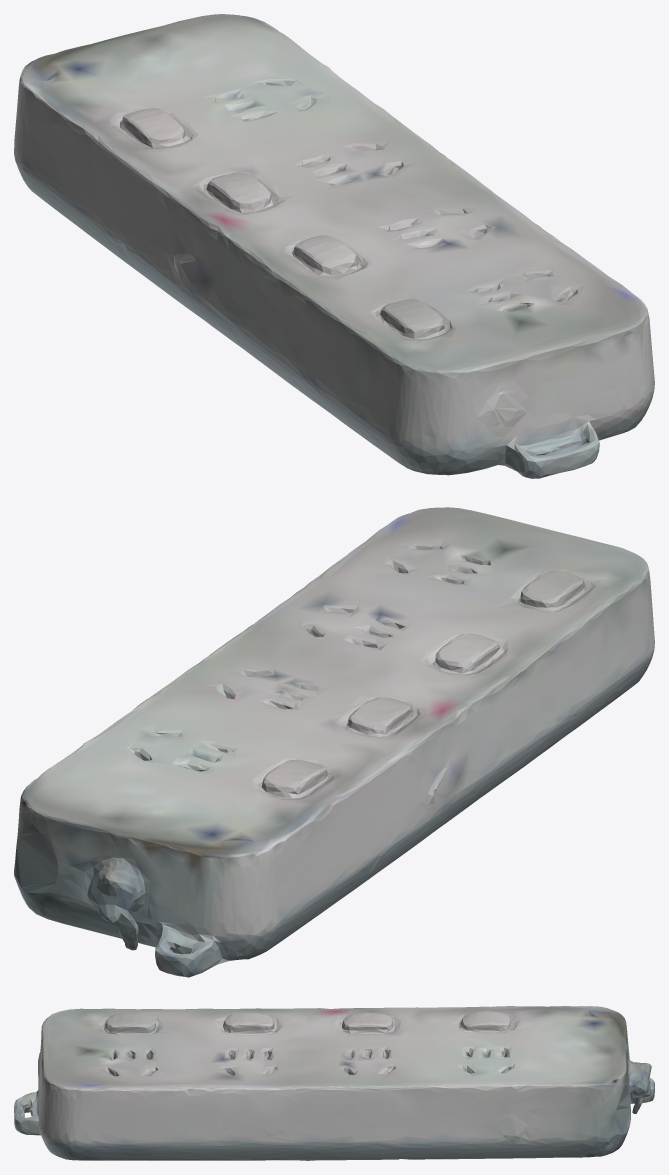
Rendered from scan.obj.
3 renders of one model, top to bottom at view 1: azimuth 30°, elevation 25°; view 2: azimuth 150°, elevation 25°; view 3: azimuth 270°, elevation 25°, orthographic. The views are drawn at different scales.
Visible parts, largest first — view 1: scan.ply; view 2: scan.ply; view 3: scan.ply.
Boxes of the visible parts, x1,y1,x2,y2 form: scan.ply: [14, 14, 654, 478]; scan.ply: [14, 507, 654, 977]; scan.ply: [14, 1006, 654, 1160].
Bounding box in the file's own units: 0.072 × 0.0324 × 0.2265.
